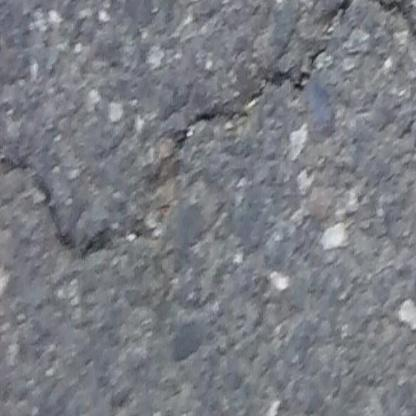Cracks: (0, 41, 332, 267), (322, 0, 416, 54)
